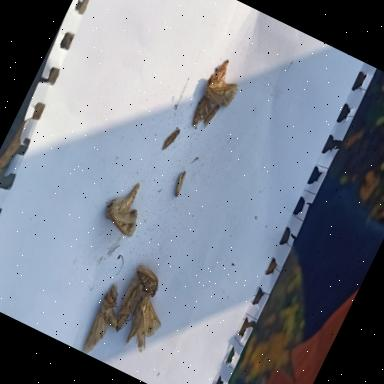abw: (112, 293, 172, 367), (75, 280, 131, 359), (92, 174, 154, 244), (198, 52, 250, 114), (103, 276, 149, 344), (124, 257, 166, 300)
pbw: (159, 123, 182, 155), (199, 100, 221, 132), (193, 94, 216, 121), (168, 169, 188, 199)
